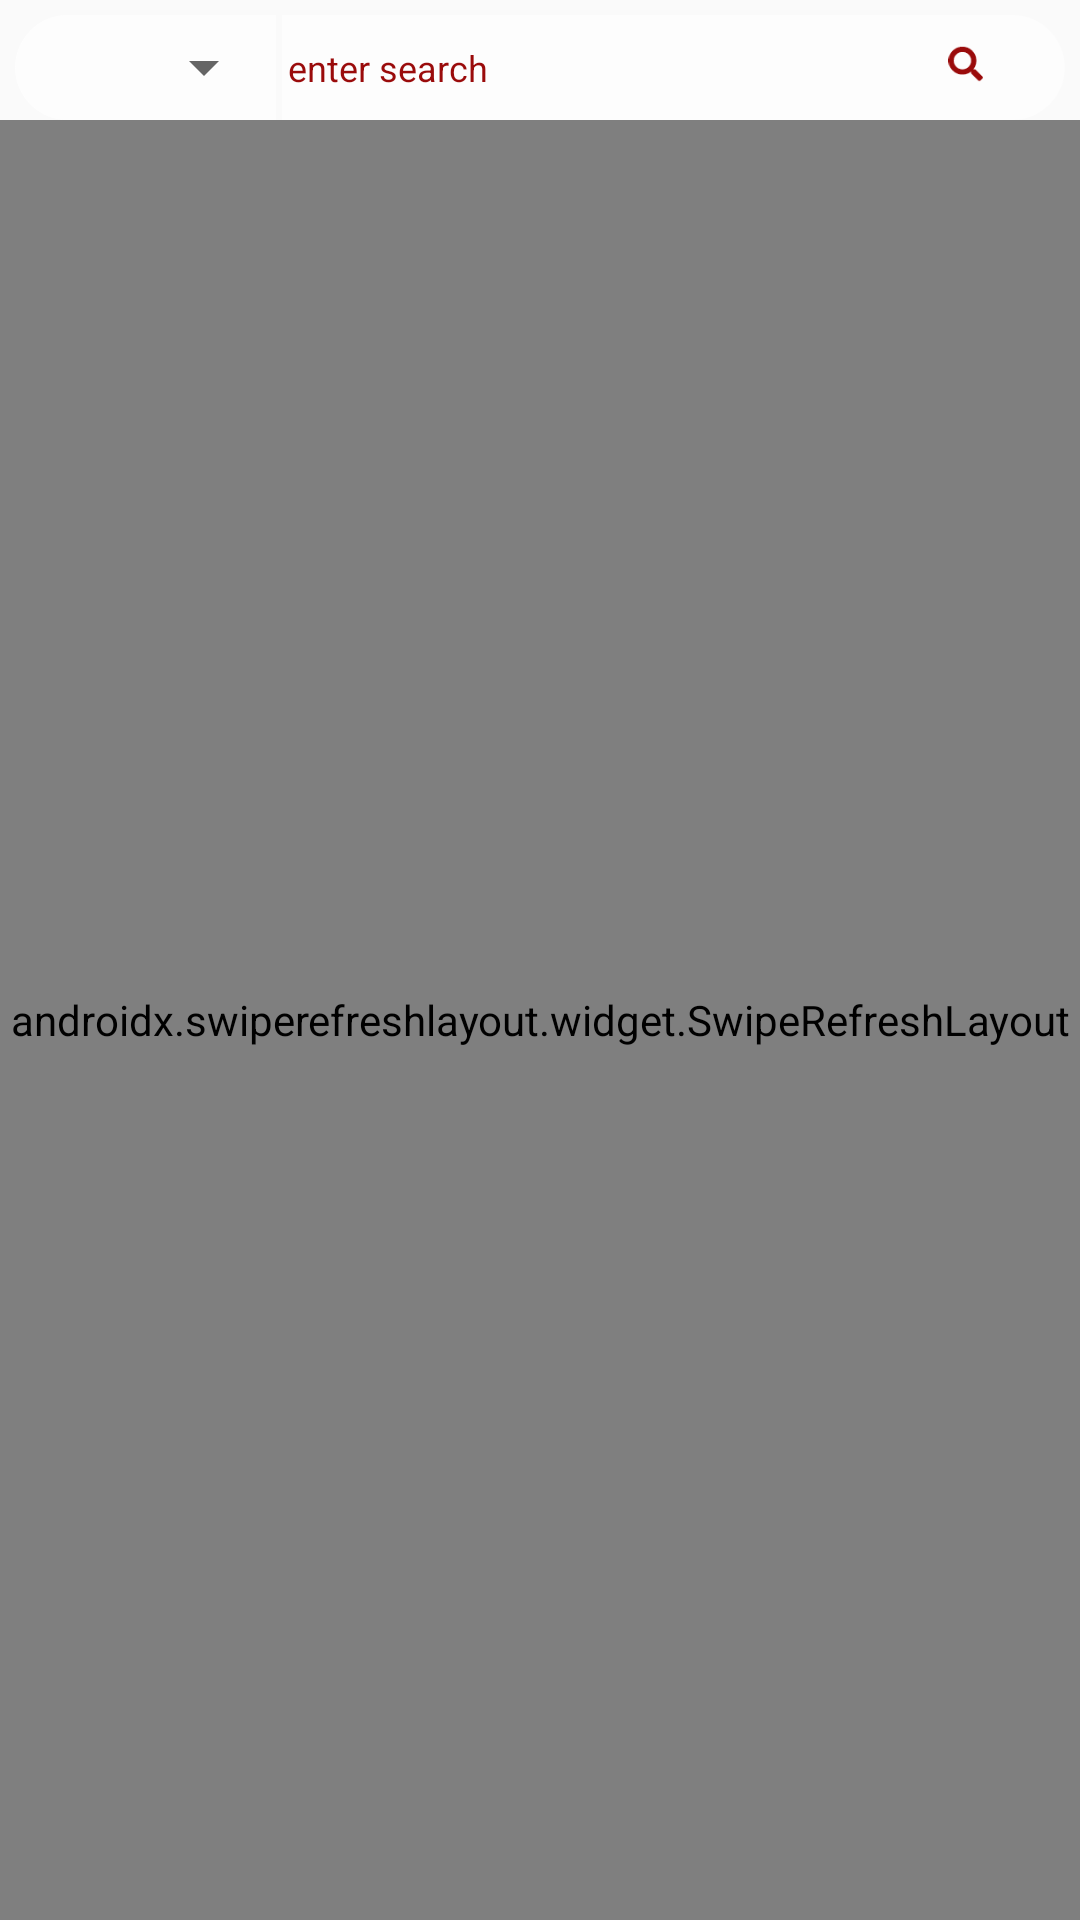

Icons on this 1080px x 1920px Android screen, each with its box as (x1, y1, x2, y2):
searchpic: (948, 46, 983, 81)
